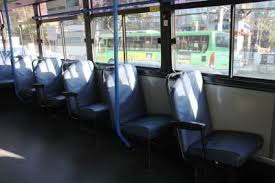seat: (175, 88, 262, 165)
